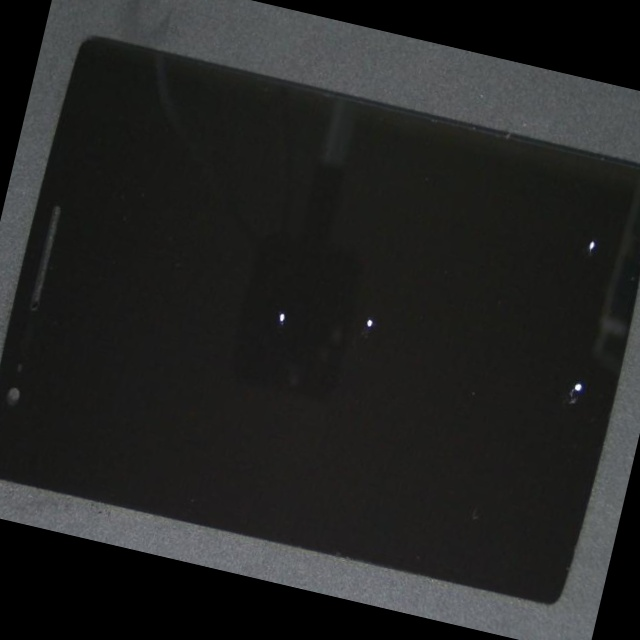stain: (167, 107, 593, 484), (239, 227, 640, 605), (67, 168, 446, 537), (328, 105, 640, 316)
